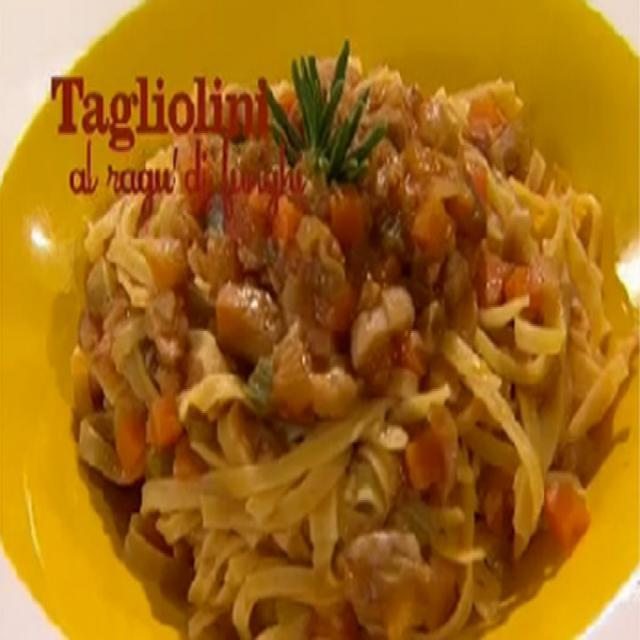Pasta al ragu: (100, 133, 616, 575)
